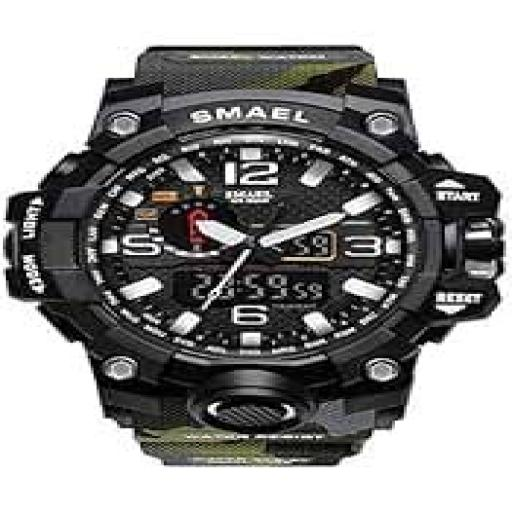KolSaati: (6, 19, 482, 470)
